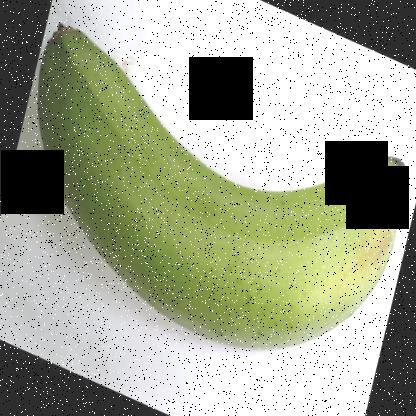freshunripe: (29, 9, 415, 358)
